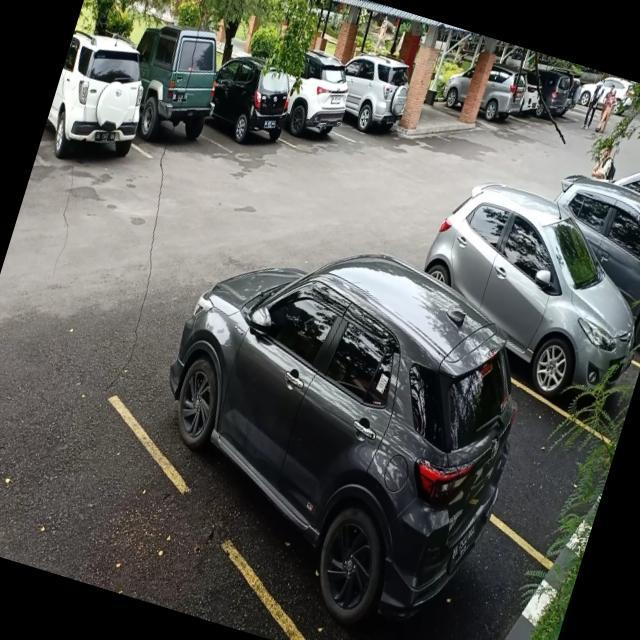occupied: (103, 311, 520, 640), (501, 248, 640, 438), (127, 38, 230, 176), (201, 62, 299, 171), (336, 50, 417, 157), (279, 68, 356, 160)
